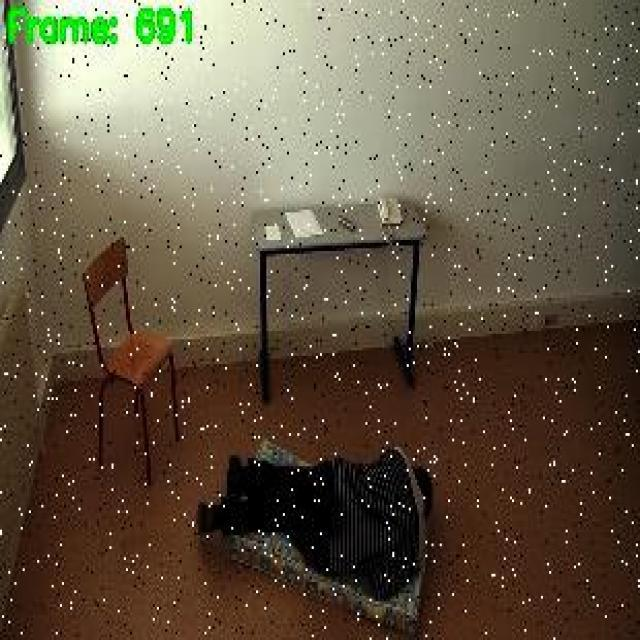fall: (188, 436, 440, 601)
